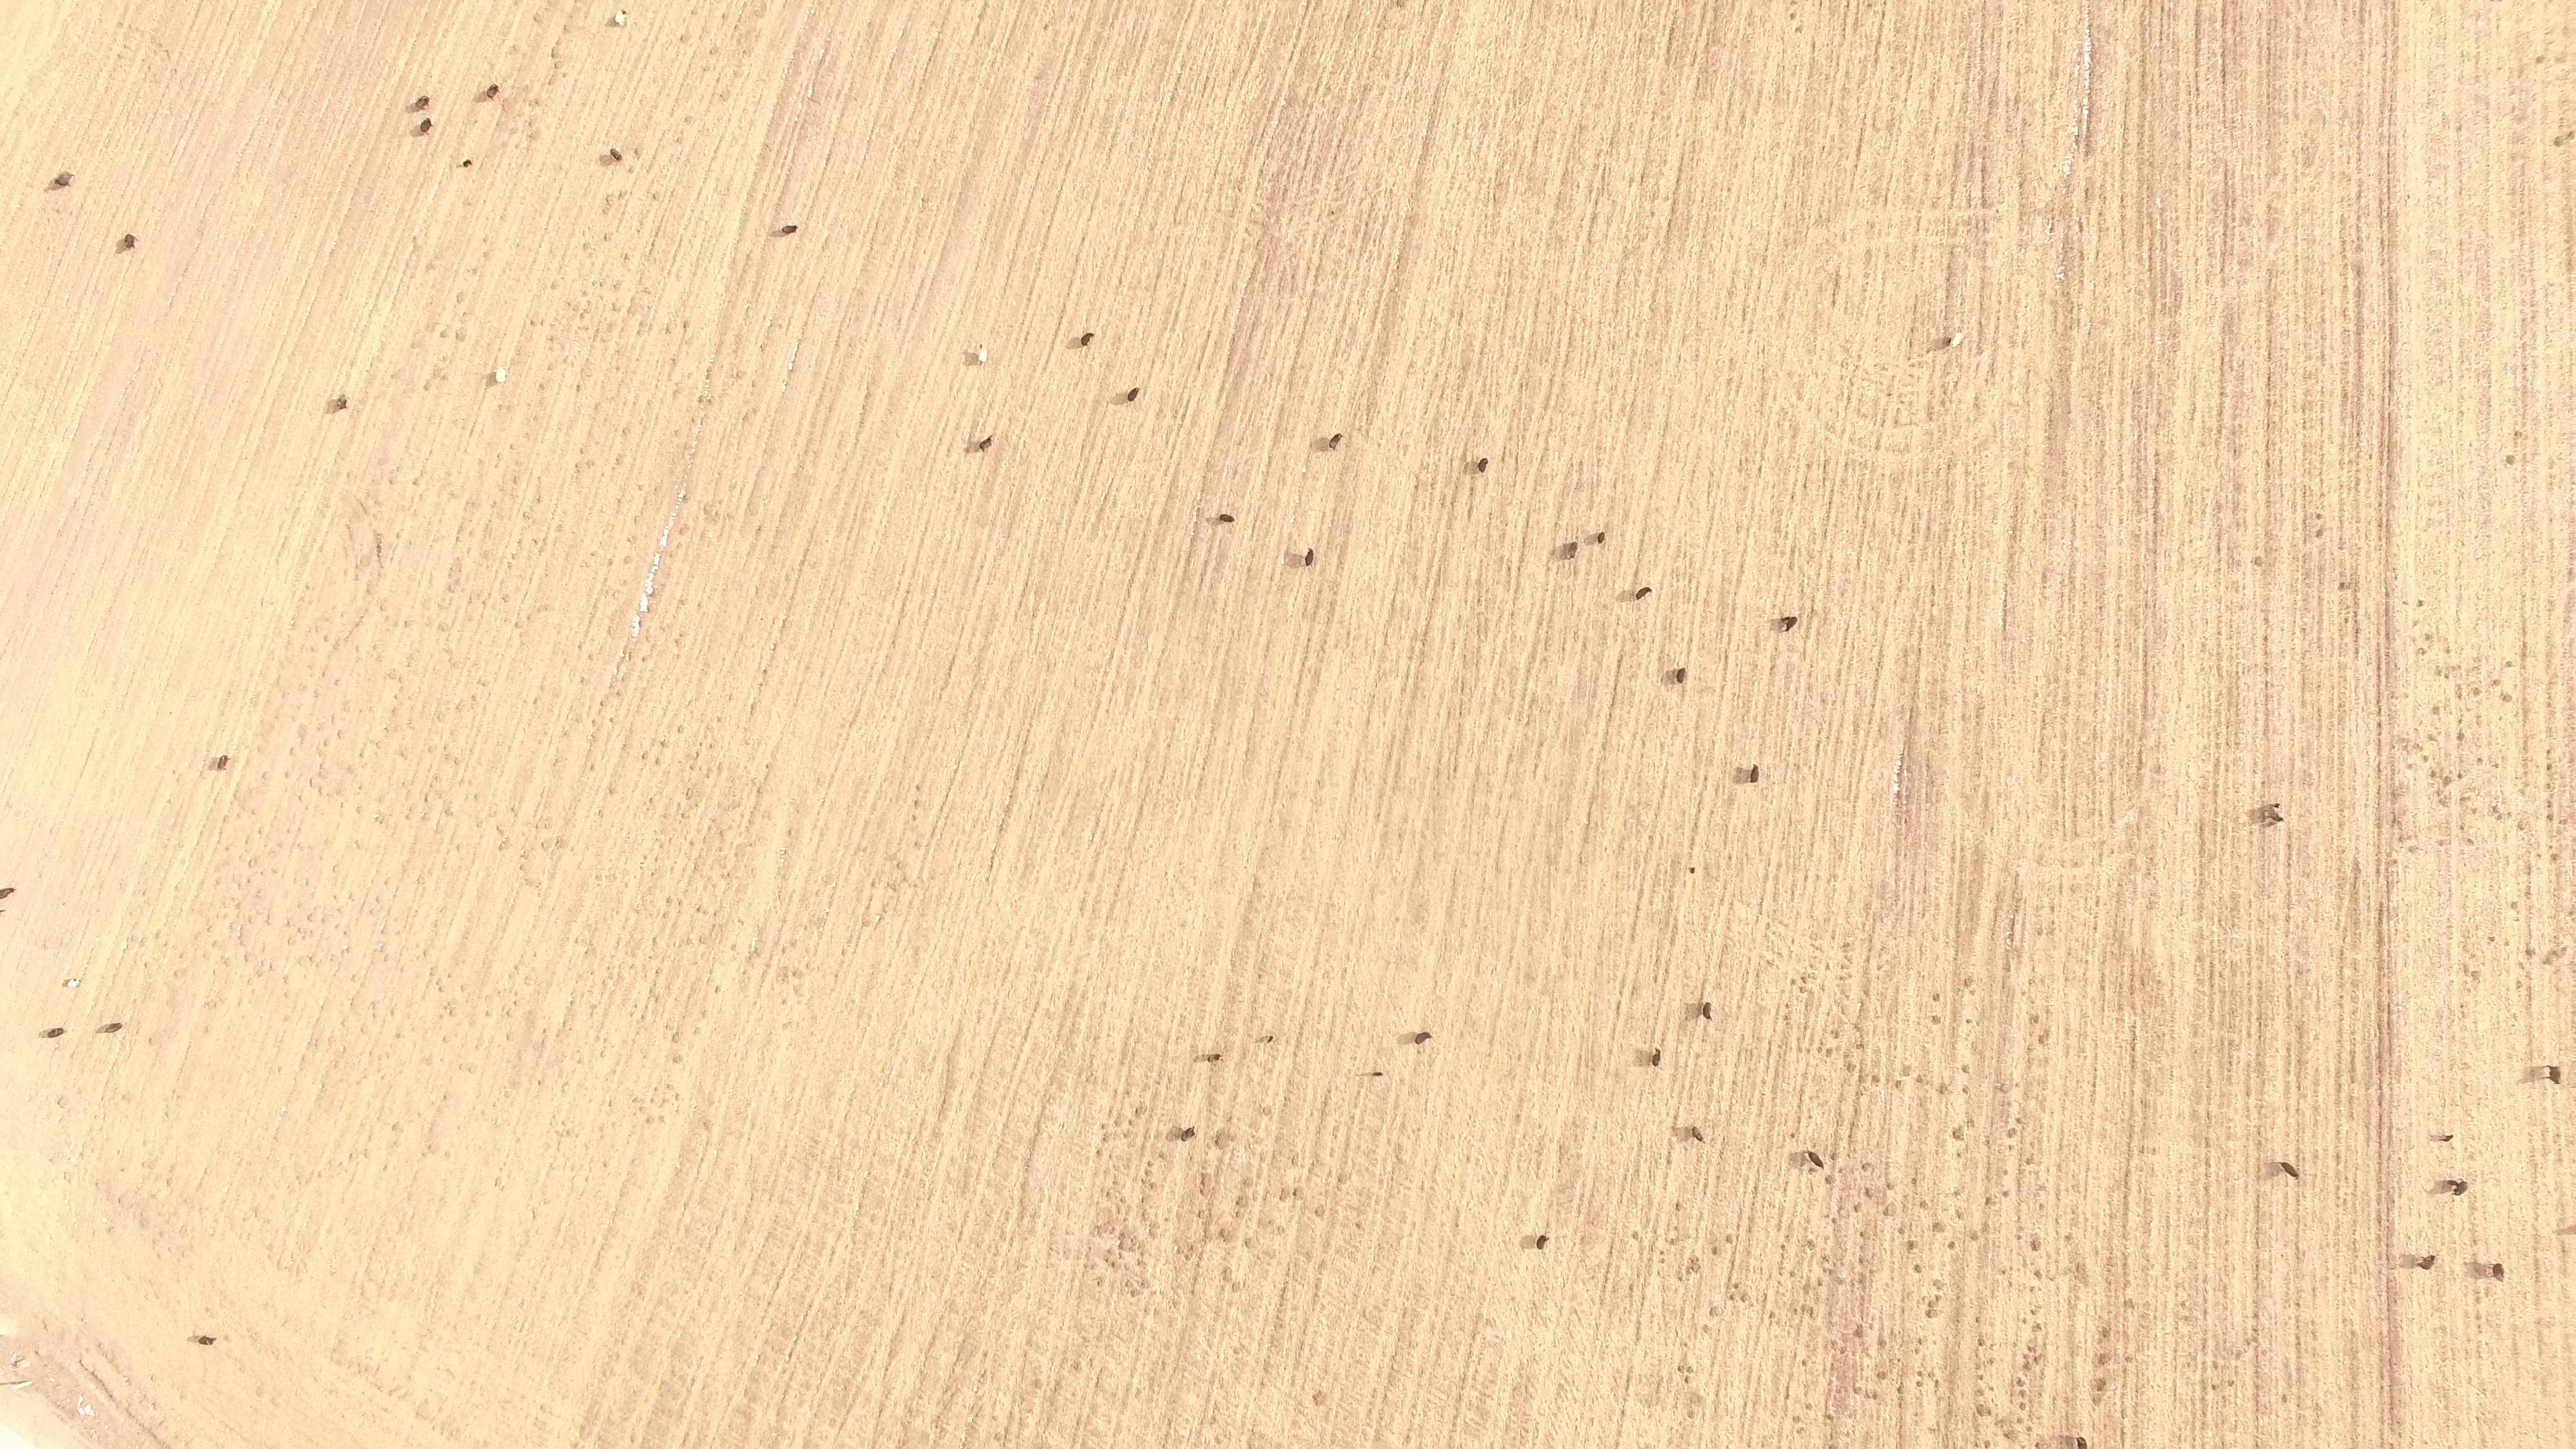sheep: (48, 168, 75, 194), (1943, 326, 1969, 350), (117, 229, 142, 256), (409, 91, 435, 113), (1773, 613, 1801, 636), (413, 115, 437, 140), (1800, 1148, 1827, 1169), (98, 1020, 125, 1038), (2278, 1159, 2302, 1183), (2449, 1177, 2471, 1201), (1410, 1028, 1435, 1049), (211, 753, 231, 776), (973, 432, 998, 453), (330, 390, 353, 415), (192, 1332, 222, 1348), (774, 221, 803, 239), (1530, 1232, 1552, 1254), (1646, 1046, 1666, 1069), (1631, 584, 1654, 604), (1560, 539, 1581, 561), (971, 341, 991, 367), (1697, 998, 1714, 1024), (40, 1024, 67, 1041), (1076, 329, 1097, 351), (482, 81, 502, 103), (2415, 1252, 2438, 1273), (2489, 1260, 2508, 1285), (2547, 1063, 2565, 1087), (1215, 509, 1241, 527), (59, 975, 85, 991), (1471, 455, 1491, 476), (1122, 384, 1142, 405), (1746, 762, 1762, 787), (1323, 431, 1344, 451), (1672, 665, 1688, 688), (1300, 547, 1317, 570), (1688, 1124, 1706, 1144), (493, 364, 510, 385), (1, 884, 17, 902), (1591, 529, 1608, 547), (2074, 1434, 2090, 1449), (460, 156, 475, 171), (2440, 1132, 2455, 1145), (1686, 864, 1698, 877), (1370, 1069, 1385, 1079)
unknown: (2247, 800, 2286, 831), (596, 146, 625, 168), (1167, 1125, 1198, 1144), (2521, 1063, 2546, 1086), (2469, 1257, 2489, 1281), (2385, 1366, 2398, 1395), (1198, 1051, 1223, 1066), (1974, 1401, 1994, 1418), (1212, 1128, 1228, 1150), (2081, 107, 2096, 128), (2383, 455, 2396, 481), (2095, 1350, 2110, 1368), (2374, 926, 2386, 951), (2094, 1376, 2109, 1395), (1850, 1323, 1866, 1341), (2061, 1433, 2077, 1449), (2099, 1324, 2113, 1342), (2551, 133, 2565, 150), (2374, 1020, 2386, 1038), (2005, 1125, 2019, 1140), (2373, 1047, 2386, 1063), (2440, 773, 2453, 790), (2384, 435, 2395, 456), (2386, 322, 2398, 343), (603, 15, 620, 31), (1197, 1171, 1210, 1189), (1951, 1126, 1964, 1142), (2375, 1091, 2386, 1110), (2134, 756, 2145, 773), (1968, 1230, 1981, 1244), (2313, 526, 2326, 540), (2503, 452, 2517, 468), (1874, 1369, 1889, 1382), (1856, 1272, 1869, 1287), (2027, 1238, 2040, 1254), (2563, 1222, 2576, 1238), (1822, 1172, 1835, 1187), (2381, 627, 2394, 644), (639, 597, 651, 612), (2376, 900, 2386, 916), (2381, 602, 2393, 619), (1822, 1411, 1837, 1424), (1894, 1384, 1905, 1397), (2013, 1377, 2027, 1390), (2031, 1352, 2045, 1364), (1923, 1307, 1935, 1321), (2031, 1267, 2045, 1280), (1709, 1244, 1721, 1258), (1945, 1239, 1958, 1252), (1216, 1226, 1228, 1240), (1929, 1219, 1943, 1232), (2375, 1063, 2386, 1077), (1853, 1040, 1867, 1052), (2375, 1034, 2386, 1049), (2035, 1032, 2047, 1047), (2030, 1012, 2042, 1026), (1929, 1012, 1941, 1026), (2522, 945, 2536, 959), (2544, 811, 2556, 824), (2454, 730, 2467, 744), (2470, 685, 2483, 698), (2564, 128, 2576, 142), (2533, 53, 2545, 66), (2375, 1116, 2385, 1133), (2389, 812, 2400, 827), (2151, 508, 2161, 524), (2385, 286, 2396, 303), (2082, 127, 2094, 144), (2121, 1193, 2131, 1210), (1913, 1379, 1925, 1390), (2020, 1360, 2033, 1373), (1876, 1337, 1887, 1349), (2251, 1309, 2262, 1322), (1731, 1280, 1742, 1291), (1115, 1240, 1126, 1252), (1982, 1194, 1994, 1207), (1930, 993, 1943, 1004), (1860, 987, 1872, 1000), (2548, 947, 2560, 959), (2351, 865, 2364, 877), (2548, 851, 2561, 864), (2489, 803, 2501, 816), (1893, 790, 1905, 803), (2387, 788, 2399, 801), (2428, 767, 2440, 781), (2543, 761, 2555, 773), (2373, 663, 2384, 676), (2336, 580, 2348, 592), (2382, 521, 2394, 533), (2387, 1393, 2397, 1406), (1974, 1336, 1986, 1349), (1801, 1282, 1812, 1297), (1289, 1185, 1301, 1199), (1862, 1185, 1873, 1199), (1936, 1082, 1947, 1097), (1869, 1075, 1882, 1085), (2374, 914, 2385, 928), (374, 542, 384, 556), (1684, 1410, 1697, 1421), (2386, 1403, 2397, 1415), (2279, 1392, 2290, 1405), (1869, 1390, 1880, 1402), (2017, 1387, 2027, 1399), (1915, 1368, 1925, 1379), (2033, 1320, 2043, 1332), (1972, 1313, 1984, 1326), (1727, 1291, 1737, 1303), (1825, 1267, 1836, 1279), (1911, 1262, 1921, 1273), (1688, 1256, 1698, 1268), (1856, 1255, 1866, 1267), (1905, 1239, 1917, 1250), (2374, 1212, 2385, 1225), (1917, 1199, 1929, 1210), (2000, 1189, 2011, 1200), (1806, 1165, 1819, 1175), (2023, 1156, 2035, 1167), (1996, 1083, 2006, 1095), (1913, 1075, 1925, 1086), (1856, 1072, 1867, 1085), (1799, 973, 1809, 985), (2469, 971, 2481, 983), (2542, 954, 2553, 966), (2486, 934, 2498, 945), (1903, 762, 1914, 775), (2374, 719, 2385, 731), (2430, 704, 2442, 714), (2455, 690, 2465, 702), (2490, 677, 2501, 688), (2422, 631, 2433, 643), (2416, 597, 2426, 609), (2381, 589, 2393, 601), (2383, 533, 2394, 544), (2340, 390, 2351, 402), (2353, 264, 2364, 276), (2376, 197, 2386, 208), (2083, 140, 2094, 153), (2072, 136, 2083, 149), (2082, 52, 2092, 64), (548, 50, 559, 61), (1787, 11, 1799, 21), (1825, 1441, 1841, 1449), (2000, 1430, 2012, 1441), (2014, 1415, 2024, 1426), (1681, 1375, 1691, 1385), (1799, 1358, 1809, 1368), (2385, 1354, 2396, 1366), (2233, 1350, 2243, 1360), (1837, 1346, 1848, 1357), (2025, 1344, 2035, 1354), (2385, 1342, 2396, 1354), (2199, 1342, 2209, 1352), (2293, 1333, 2303, 1343), (1925, 1300, 1935, 1310), (2178, 1299, 2188, 1309), (1737, 1293, 1748, 1304), (1625, 1282, 1636, 1293), (2072, 1263, 2082, 1273), (2120, 1260, 2130, 1271), (1108, 1259, 1118, 1270), (1242, 1239, 1252, 1249), (1805, 1237, 1815, 1247), (1723, 1234, 1734, 1246), (2063, 1232, 2074, 1243), (1117, 1230, 1128, 1240), (1851, 1203, 1861, 1214), (1197, 1186, 1207, 1196), (2374, 1179, 2385, 1189), (1909, 1175, 1920, 1185), (1859, 1163, 1870, 1173), (1828, 1152, 1838, 1163), (1093, 1147, 1104, 1157), (1788, 1131, 1798, 1141), (1893, 1077, 1904, 1087), (1843, 1063, 1854, 1073), (1823, 1047, 1834, 1057), (1256, 1034, 1267, 1046), (1266, 1033, 1276, 1043), (2384, 1007, 2395, 1018), (2374, 1001, 2384, 1012), (2461, 965, 2471, 977), (2002, 965, 2013, 975), (2523, 888, 2533, 898), (1250, 879, 1260, 890), (2390, 856, 2400, 867), (996, 824, 1006, 835), (2457, 823, 2467, 833), (2375, 822, 2385, 832), (2515, 821, 2525, 831), (2437, 798, 2449, 808), (2457, 794, 2469, 804), (1890, 782, 1900, 793), (2455, 771, 2465, 782), (1894, 769, 1904, 780), (2475, 755, 2485, 765), (2544, 700, 2555, 710), (2500, 693, 2511, 704), (2141, 690, 2151, 701), (2441, 671, 2452, 682), (2520, 641, 2530, 651), (2382, 619, 2392, 629), (2252, 554, 2262, 564), (1203, 515, 1214, 525), (2314, 511, 2324, 523), (2376, 452, 2386, 463), (704, 396, 714, 407), (2355, 352, 2365, 362), (2354, 329, 2364, 339), (1831, 280, 1841, 290), (2220, 221, 2231, 231), (2221, 178, 2231, 189), (1978, 165, 1989, 175), (1664, 44, 1674, 54), (619, 7, 629, 17), (1960, 1064, 1970, 1075), (2098, 982, 2108, 994), (2198, 837, 2208, 849), (2373, 696, 2384, 706), (2261, 634, 2271, 645), (2383, 482, 2393, 493), (1850, 1385, 1860, 1395), (2209, 1382, 2219, 1393), (2020, 1352, 2030, 1362), (1700, 1324, 1710, 1334), (2181, 1313, 2191, 1324), (1128, 1287, 1138, 1297), (2121, 1281, 2131, 1291), (1836, 1277, 1846, 1287), (1657, 1248, 1667, 1258), (2292, 1242, 2302, 1252), (1857, 1229, 1867, 1240), (1829, 1216, 1839, 1226), (2036, 1201, 2046, 1212), (1672, 1201, 1682, 1211), (2013, 1116, 2023, 1126), (1960, 1085, 1970, 1095), (2129, 1056, 2139, 1066), (2284, 1044, 2294, 1055), (2041, 1027, 2051, 1037), (1854, 1024, 1864, 1034), (2294, 1023, 2304, 1033), (2558, 945, 2568, 955), (2464, 836, 2474, 846), (2494, 812, 2504, 822), (2469, 806, 2479, 816), (1907, 706, 1917, 716), (2519, 649, 2529, 660), (2151, 498, 2161, 508), (2512, 428, 2522, 439), (2377, 415, 2387, 425), (2216, 389, 2226, 399), (2386, 370, 2396, 380), (2077, 251, 2087, 261), (1978, 199, 1988, 209), (1854, 145, 1864, 155), (1607, 138, 1617, 148), (2087, 67, 2097, 77), (1793, 24, 1804, 34), (2356, 6, 2366, 17), (2225, 1379, 2235, 1389), (2211, 1362, 2221, 1372), (2121, 1298, 2131, 1308), (2347, 1057, 2357, 1067), (2128, 1043, 2138, 1053), (1981, 801, 1991, 811), (2140, 702, 2150, 712), (2375, 521, 2385, 531), (2214, 502, 2224, 512)
